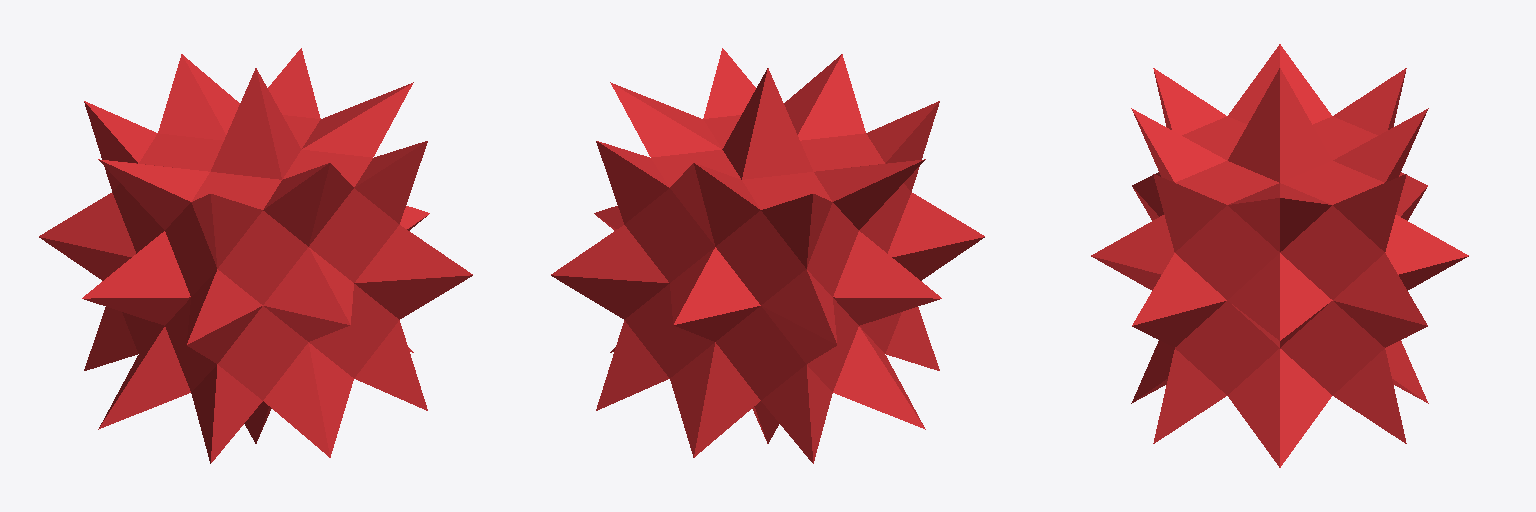
The picture shows the model from 3 angles: view 1: azimuth 30°, elevation 25°; view 2: azimuth 150°, elevation 25°; view 3: azimuth 270°, elevation 25°; orthographic projection.
Visible parts, largest first — view 1: Cube; view 2: Cube; view 3: Cube.
Boxes of the visible parts, x1,y1,x2,y2 form: Cube: [39, 48, 472, 463]; Cube: [551, 48, 984, 463]; Cube: [1091, 44, 1468, 467].
Bounding box in the file's own units: 3.83 × 3.96 × 3.6.
Materials: 1 (1 with a texture image).